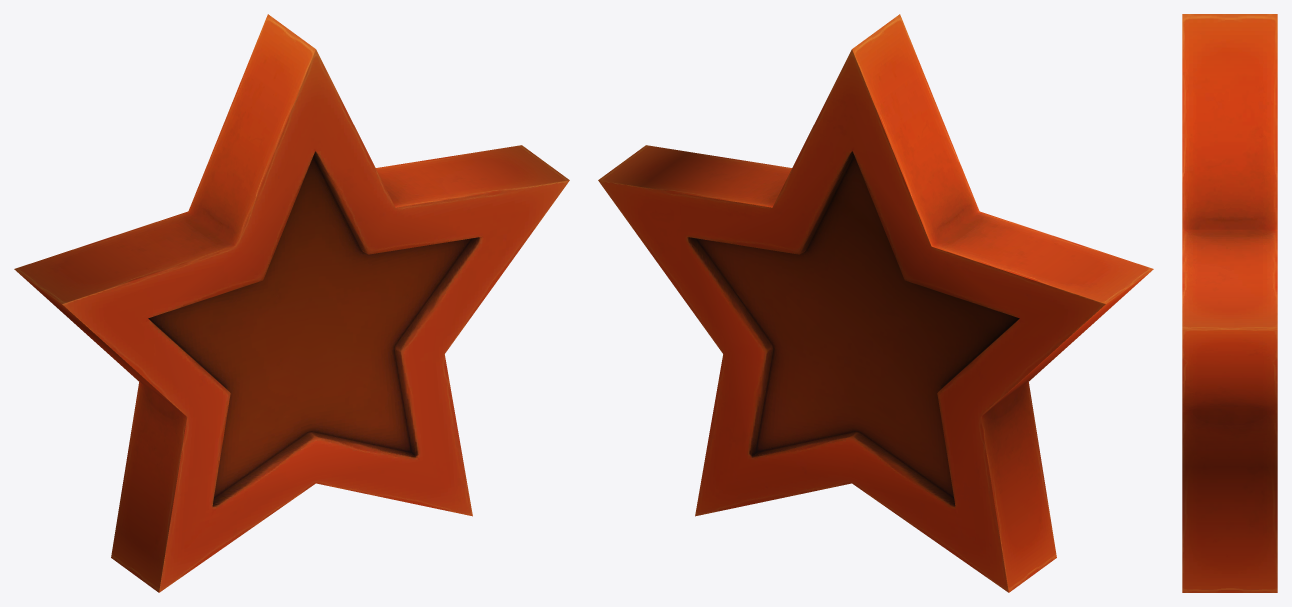
File: SM_Star_01.glb
3 renders of one model, left to right at view 1: azimuth 30°, elevation 25°; view 2: azimuth 150°, elevation 25°; view 3: azimuth 270°, elevation 25°, orthographic.
Visible parts, largest first — view 1: SM_Star_01; view 2: SM_Star_01; view 3: SM_Star_01.
Part boxes in pixels (x1,y1,x2,y2): SM_Star_01: (14,14,569,592); SM_Star_01: (598,14,1153,592); SM_Star_01: (1182,14,1277,592).
Bounding box in the file's own units: 0.5497 × 0.5228 × 0.0901.
Materials: 1 (1 with a texture image).
